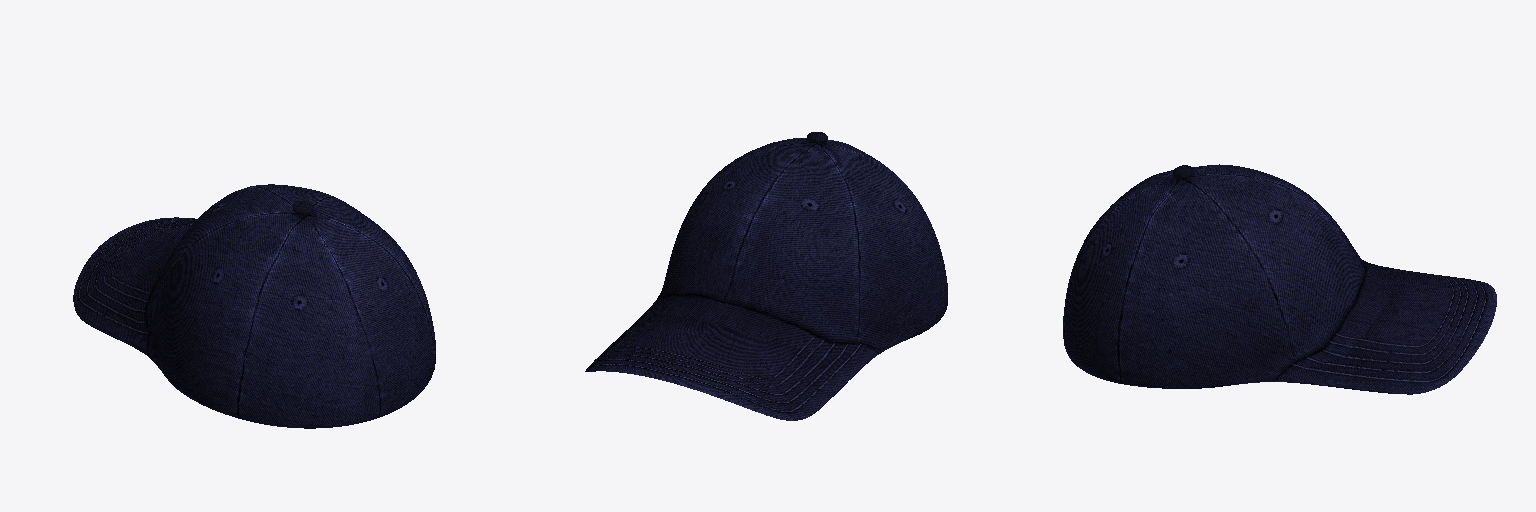
3 views of the same model, side by side, from view 1: azimuth 30°, elevation 25°; view 2: azimuth 150°, elevation 25°; view 3: azimuth 270°, elevation 25° (orthographic).
Visible parts, largest first — view 1: cap; view 2: cap; view 3: cap.
Part boxes in pixels (x1,y1,x2,y2): cap: (73, 184, 435, 428); cap: (585, 132, 947, 420); cap: (1063, 164, 1496, 394).
Size of the model in its own units: 18.91 by 13.23 by 29.47.
1 materials, 1 textured.